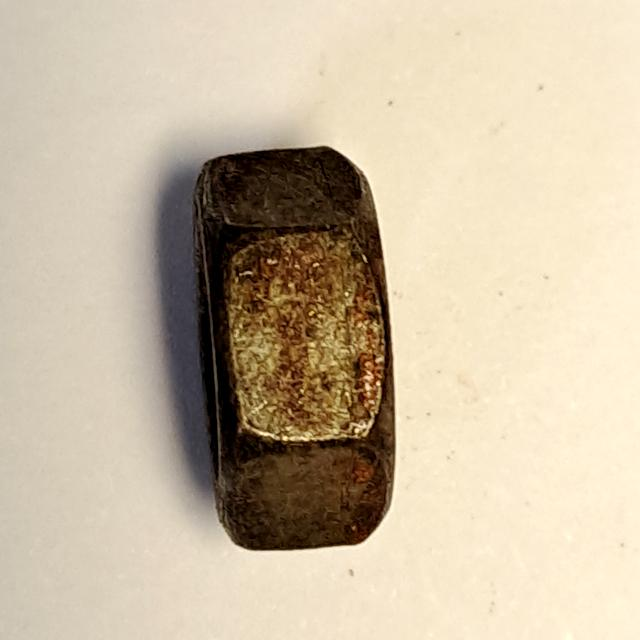Side_Rust: (181, 139, 418, 569)
